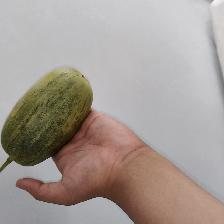gua: (9, 74, 84, 153)
